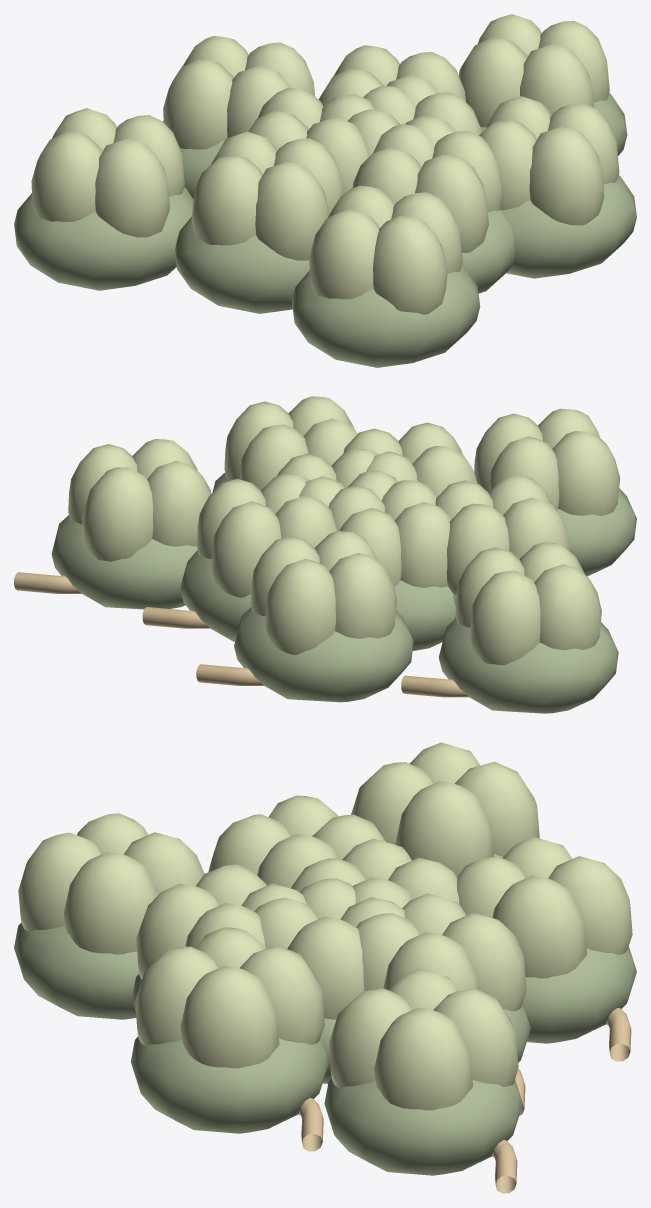
Rendered from bio_oxygen_reef_01_far.glb.
The picture shows the model from 3 angles, top to bottom: view 1: azimuth 30°, elevation 25°; view 2: azimuth 150°, elevation 25°; view 3: azimuth 270°, elevation 25°; orthographic projection. The views are drawn at different scales.
Visible parts, largest first — view 1: Lobed gas sac.036, Lobed gas sac.028, Lobed gas sac.016, Lobed gas sac.020, Lobed gas sac.032, Photosynthetic cushion.007, Lobed gas sac.024, Photosynthetic cushion.009, Lobed gas sac.008, Photosynthetic cushion.004, Photosynthetic cushion.005, Lobed gas sac.004 (+5 smaller); view 2: Lobed gas sac.036, Lobed gas sac.024, Lobed gas sac.032, Lobed gas sac.028, Photosynthetic cushion.009, Lobed gas sac.012, Photosynthetic cushion.006, Lobed gas sac.004, Lobed gas sac.016, Lobed gas sac.020, Photosynthetic cushion.008, Lobed gas sac.008 (+8 smaller); view 3: Lobed gas sac.020, Lobed gas sac.032, Lobed gas sac.028, Lobed gas sac.024, Lobed gas sac.036, Photosynthetic cushion.008, Photosynthetic cushion.005, Lobed gas sac.012, Lobed gas sac, Lobed gas sac.016, Lobed gas sac.008, Photosynthetic cushion.007 (+6 smaller).
Part boxes in pixels (x1=…): Lobed gas sac.036: x1=31, y1=108, x2=184, y2=237; Lobed gas sac.028: x1=309, y1=185, x2=462, y2=314; Lobed gas sac.016: x1=191, y1=131, x2=343, y2=260; Lobed gas sac.020: x1=479, y1=96, x2=619, y2=225; Lobed gas sac.032: x1=459, y1=14, x2=609, y2=127; Photosynthetic cushion.007: x1=291, y1=264, x2=480, y2=367; Lobed gas sac.024: x1=163, y1=36, x2=314, y2=149; Photosynthetic cushion.009: x1=14, y1=187, x2=193, y2=290; Lobed gas sac.008: x1=352, y1=124, x2=501, y2=252; Photosynthetic cushion.004: x1=175, y1=217, x2=309, y2=313; Photosynthetic cushion.005: x1=500, y1=175, x2=636, y2=278; Lobed gas sac.004: x1=248, y1=87, x2=374, y2=193; Lobed gas sac.036: x1=455, y1=542, x2=601, y2=665; Lobed gas sac.024: x1=250, y1=531, x2=396, y2=654; Lobed gas sac.032: x1=68, y1=439, x2=211, y2=561; Lobed gas sac.028: x1=474, y1=408, x2=620, y2=516; Photosynthetic cushion.009: x1=438, y1=618, x2=618, y2=713; Lobed gas sac.012: x1=196, y1=473, x2=336, y2=597; Photosynthetic cushion.006: x1=234, y1=607, x2=413, y2=702; Lobed gas sac.004: x1=328, y1=480, x2=451, y2=587; Lobed gas sac.016: x1=435, y1=475, x2=569, y2=594; Lobed gas sac.020: x1=224, y1=396, x2=357, y2=490; Photosynthetic cushion.008: x1=51, y1=515, x2=197, y2=609; Lobed gas sac.008: x1=343, y1=422, x2=477, y2=497; Lobed gas sac.020: x1=135, y1=927, x2=324, y2=1068; Lobed gas sac.032: x1=328, y1=969, x2=518, y2=1110; Lobed gas sac.028: x1=18, y1=813, x2=204, y2=954; Lobed gas sac.024: x1=457, y1=837, x2=632, y2=978; Lobed gas sac.036: x1=351, y1=742, x2=539, y2=877; Photosynthetic cushion.008: x1=324, y1=1079, x2=522, y2=1175; Photosynthetic cushion.005: x1=130, y1=1037, x2=329, y2=1133; Lobed gas sac.012: x1=356, y1=893, x2=526, y2=1011; Lobed gas sac: x1=254, y1=878, x2=404, y2=1019; Lobed gas sac.016: x1=208, y1=795, x2=386, y2=888; Lobed gas sac.008: x1=136, y1=864, x2=306, y2=979; Photosynthetic cushion.007: x1=14, y1=923, x2=138, y2=1019.
Bounding box in the file's own units: 1.85 × 0.4497 × 1.51.
